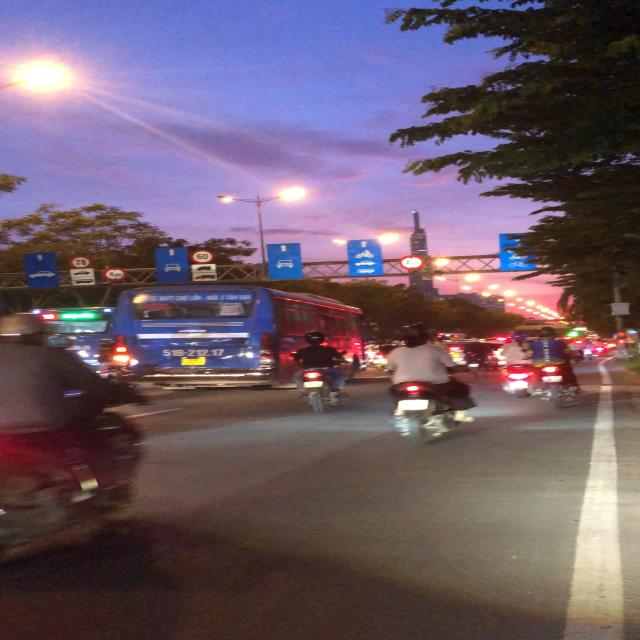Bien bao han che chieu cao: (394, 252, 424, 272), (100, 266, 132, 284)
Bien bao toc do toi da cho phep: (187, 248, 218, 264), (64, 254, 94, 269)
